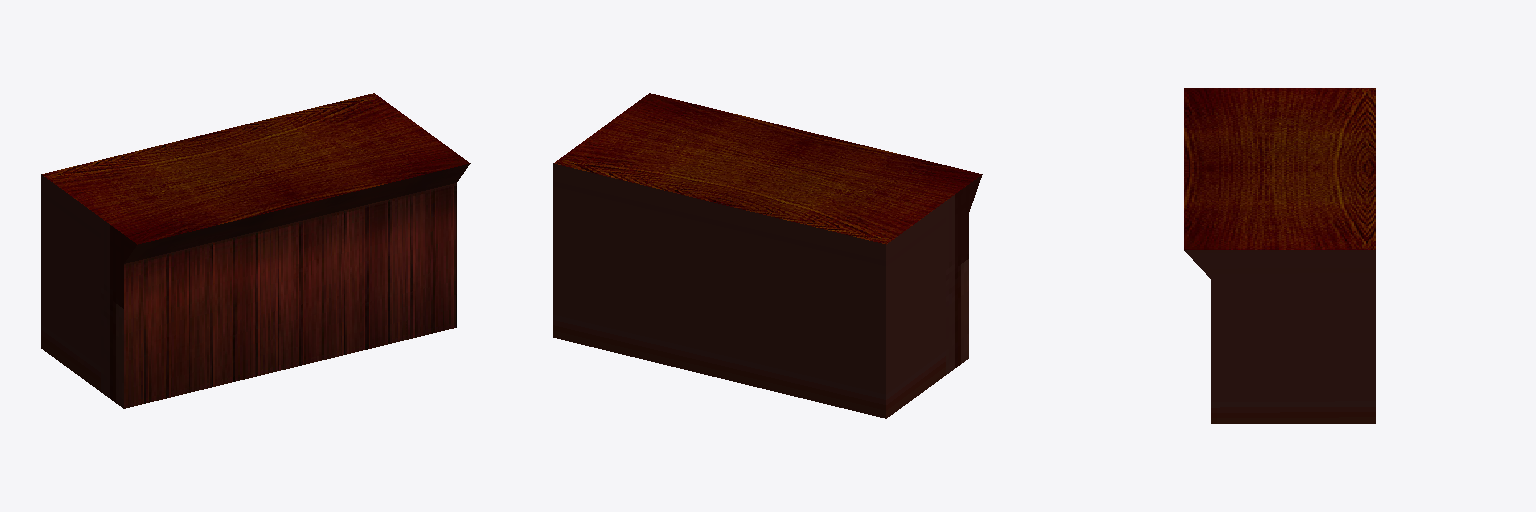
The picture shows the model from 3 angles: view 1: azimuth 30°, elevation 25°; view 2: azimuth 150°, elevation 25°; view 3: azimuth 270°, elevation 25°; orthographic projection.
Visible parts, largest first — view 1: Cube; view 2: Cube; view 3: Cube.
Boxes of the visible parts, <box> form: Cube: <box>41,93,470,408</box>; Cube: <box>553,93,982,418</box>; Cube: <box>1184,88,1375,423</box>.
Size of the model in its own units: 4 by 2 by 2.
1 materials, 1 textured.